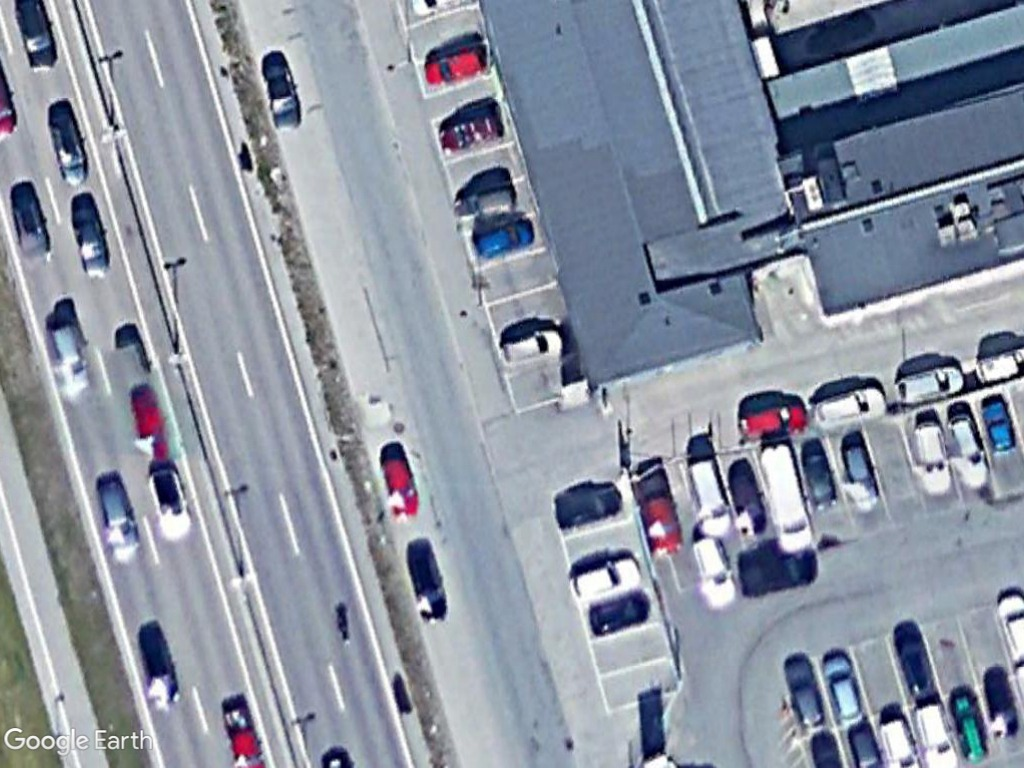car: (886, 362, 972, 412), (259, 53, 309, 138), (63, 194, 111, 282), (418, 40, 499, 91), (806, 381, 892, 428), (466, 212, 540, 266), (496, 318, 569, 372), (47, 108, 93, 192), (735, 396, 810, 445)
van: (750, 439, 821, 560)
